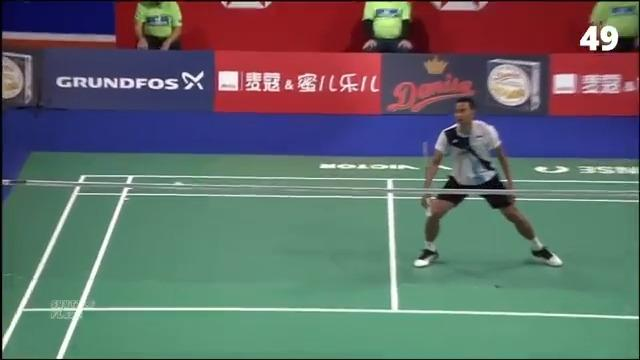Shuttlecock: (173, 180, 185, 190)
